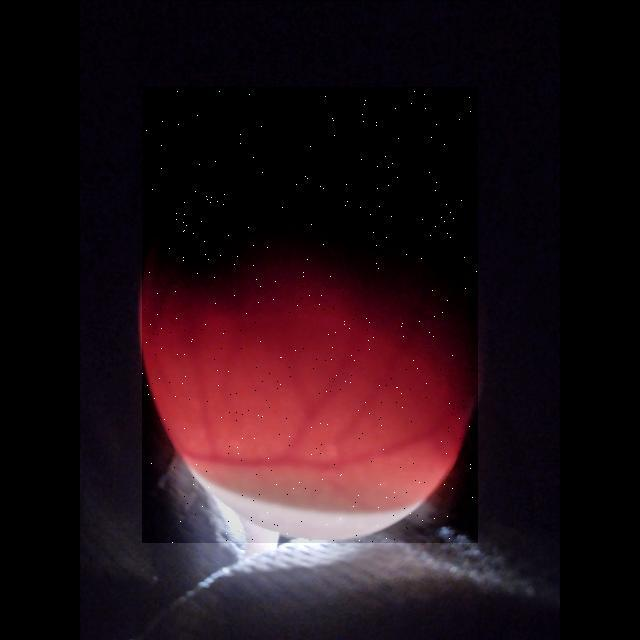Fertile: (142, 87, 478, 543)
